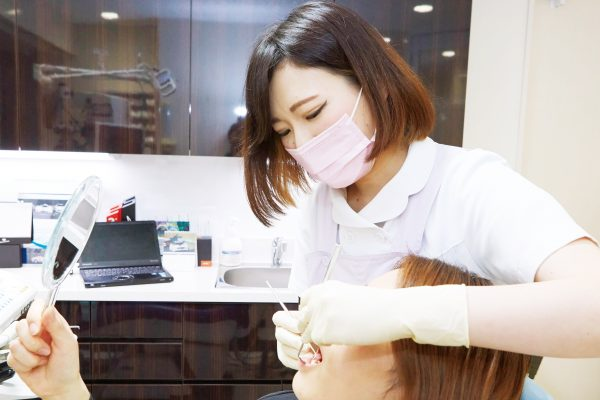mask: (286, 117, 375, 188)
